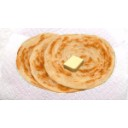parota: (47, 32, 115, 87), (32, 34, 92, 93), (17, 34, 75, 90)
